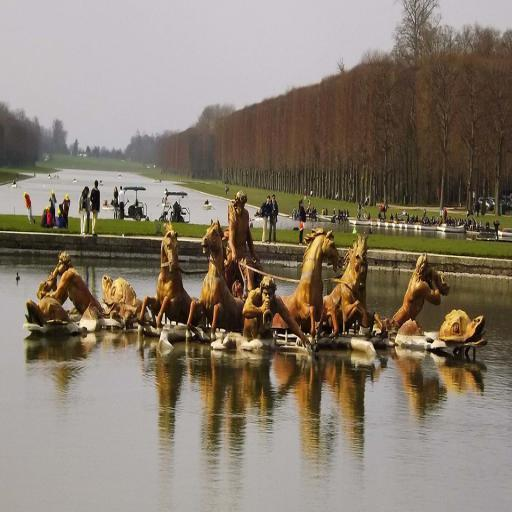horse: (270, 223, 344, 344), (134, 218, 206, 332), (320, 230, 388, 340), (187, 217, 246, 342)
